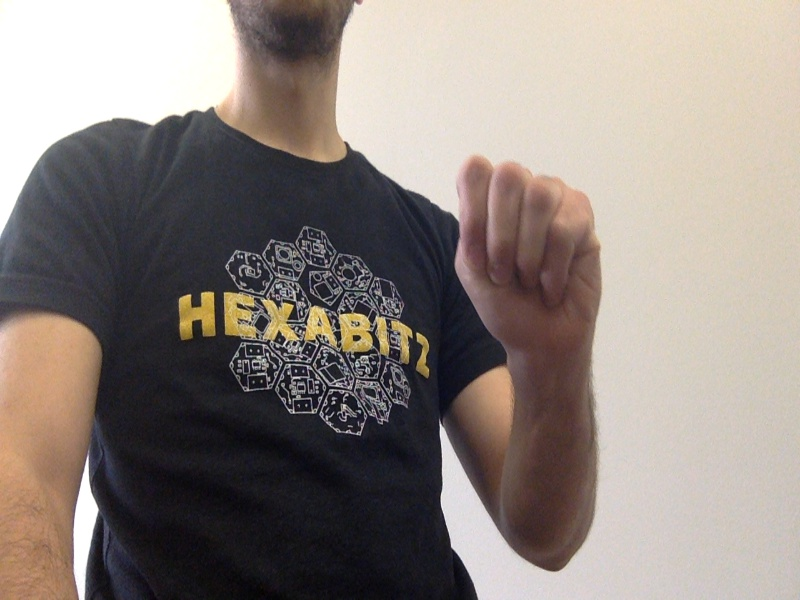0-hand: (455, 156, 602, 352)
